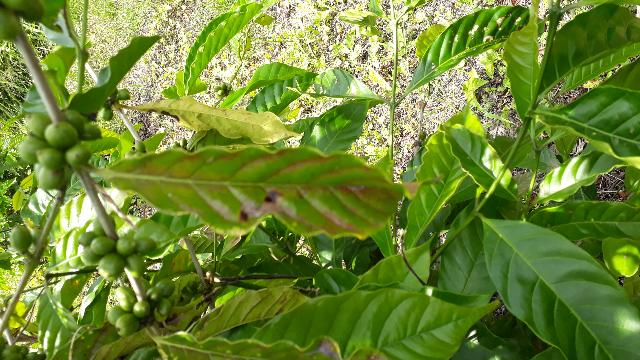red_spider_mite: (106, 146, 408, 241)
